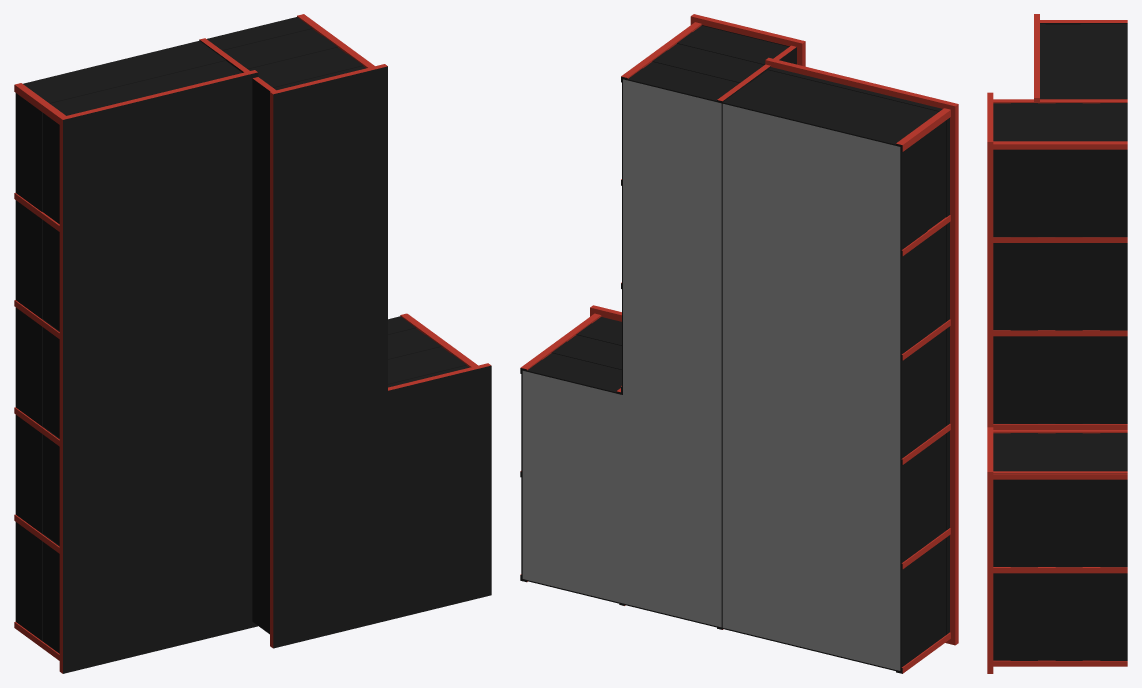
Rendered from Ingenieria mecanica v1.fbx.
3 renders of one model, left to right at view 1: azimuth 30°, elevation 25°; view 2: azimuth 150°, elevation 25°; view 3: azimuth 270°, elevation 25°, orthographic. The views are drawn at different scales.
Visible parts, largest first — view 1: Body1; view 2: Body2, Body1, Body3, Body4; view 3: Body1.
Boxes of the visible parts, <box> form: Body1: <box>14,14,491,673</box>; Body2: <box>722,104,900,670</box>; Body1: <box>520,14,958,673</box>; Body3: <box>623,79,721,626</box>; Body4: <box>522,371,720,627</box>; Body1: <box>987,14,1127,673</box>.
Size of the model in its own units: 35 by 46.1 by 12.
